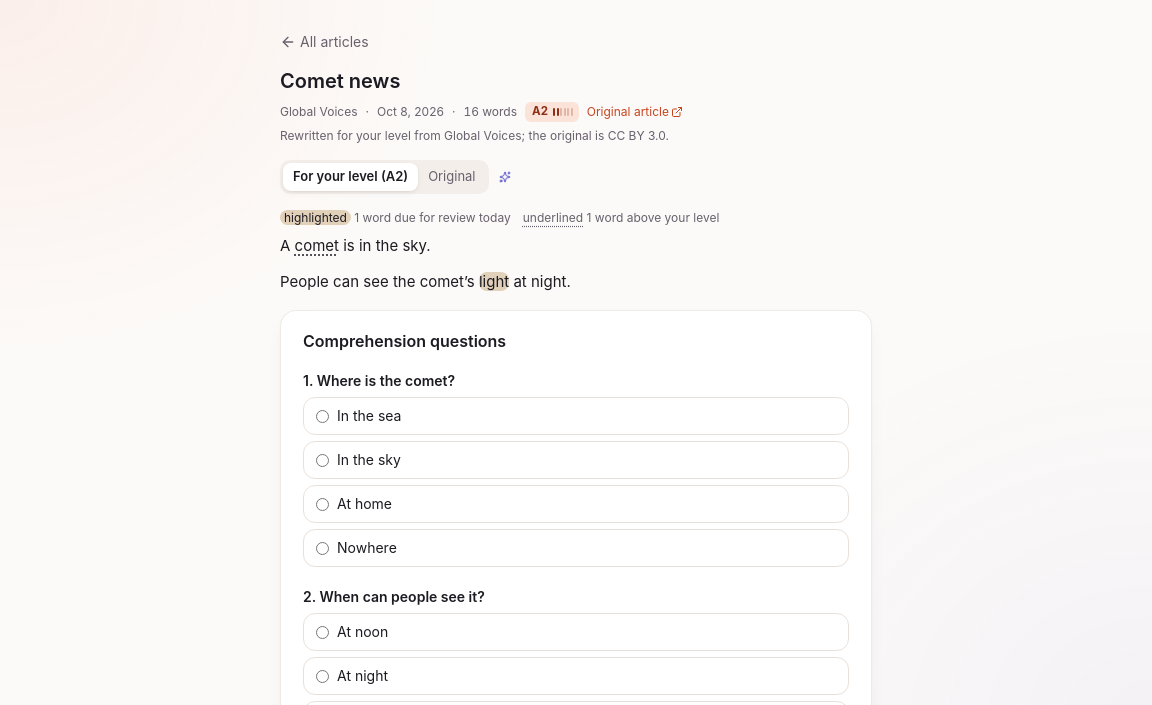
Scenario: ReadingArticle › grades the answers and shows the evidence
Click the radio button labelled "In the sky" at point(322, 461), box [316,454,329,467]
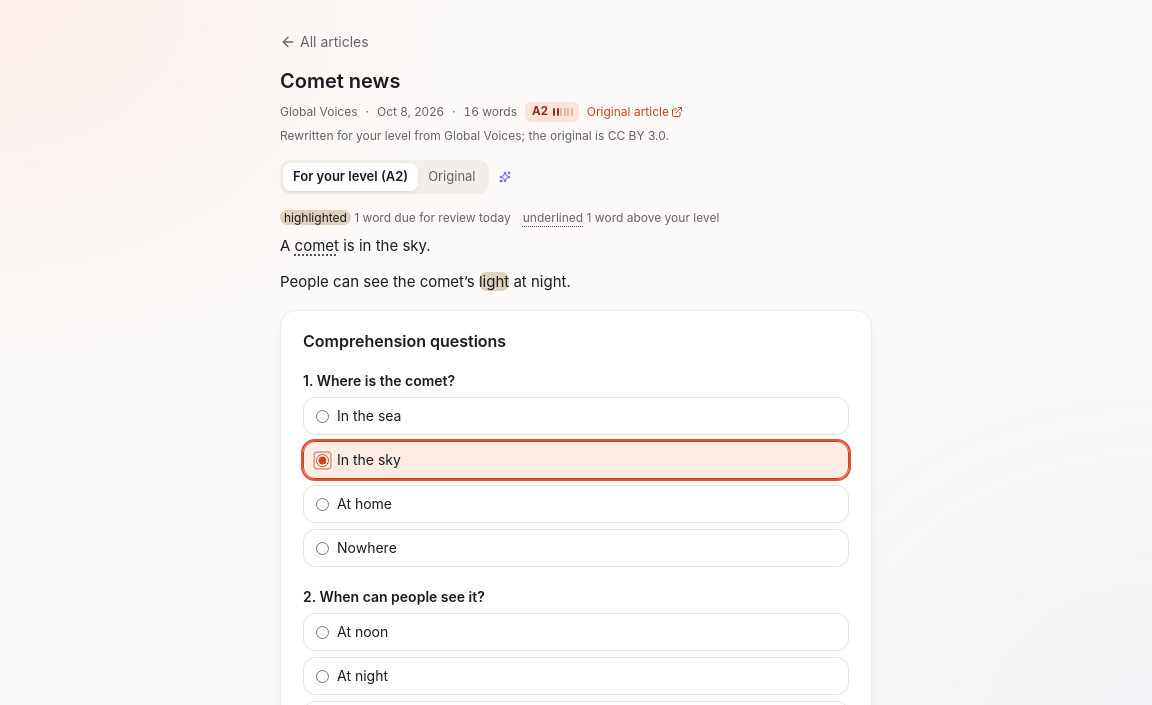
Click the radio button labelled "At noon" at point(322, 633), box [316,626,329,639]
(page scrolled)
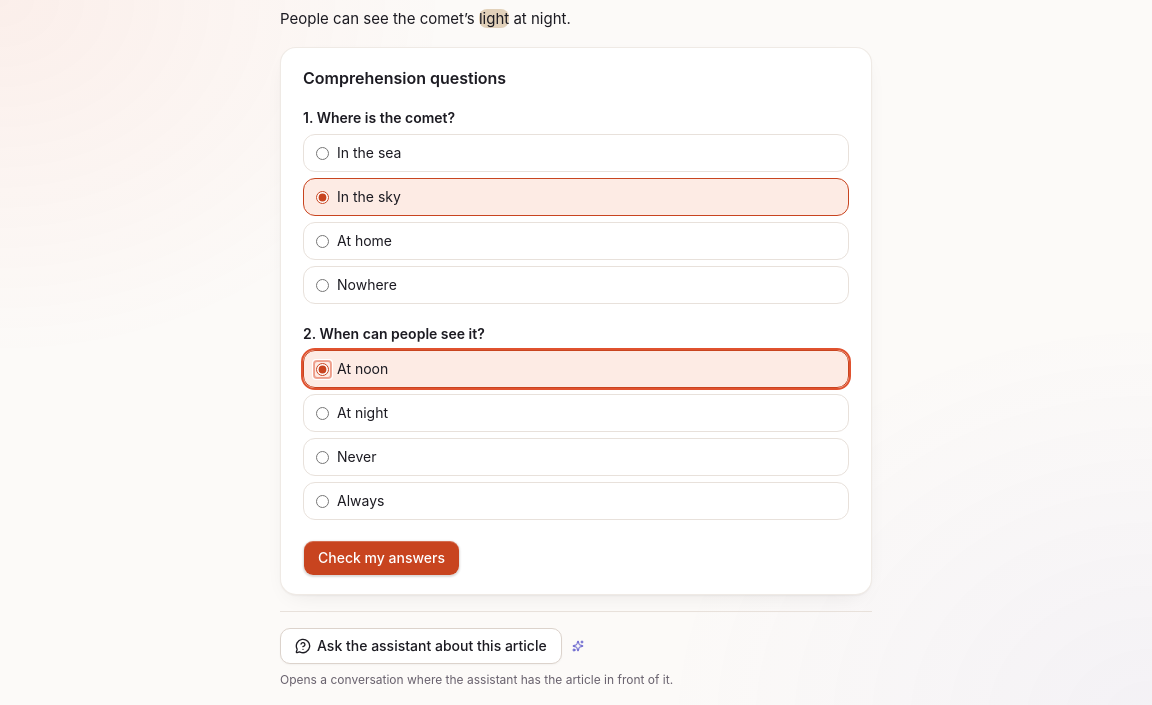
Click the button "Check my answers" at point(382, 558), box [303,540,460,576]
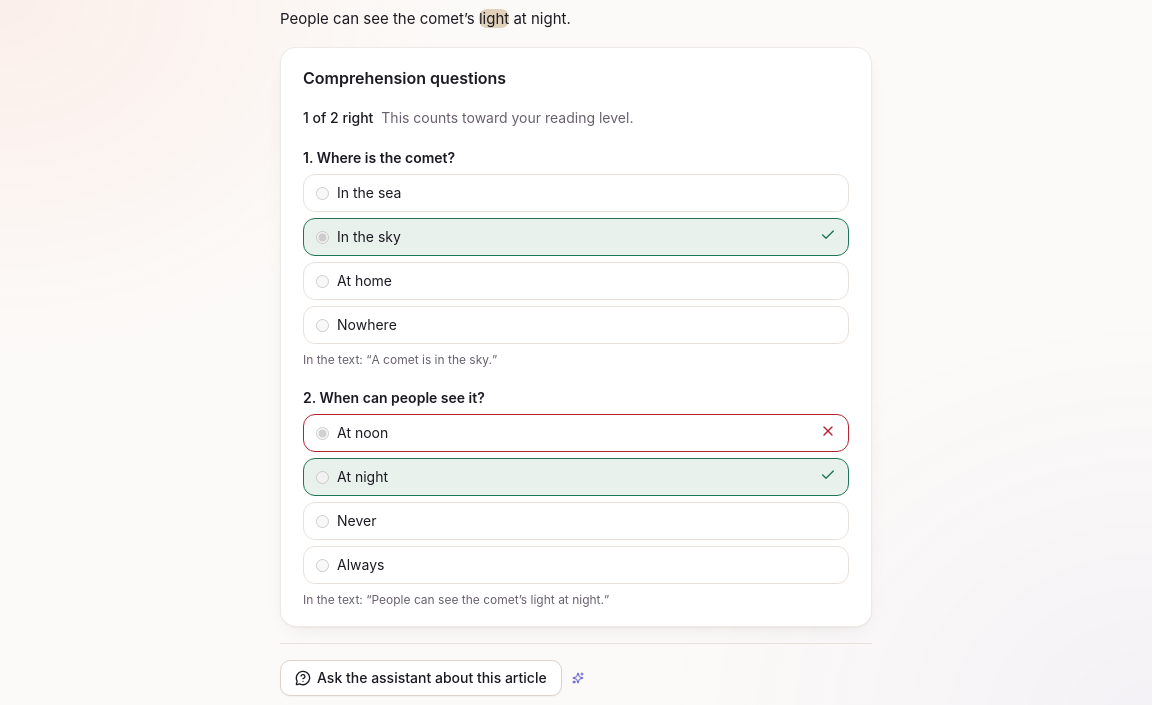
Expected: the element with test id "reading-score" shows "1 of 2 right", [303,109,373,126]
Expected: the text "This counts toward your reading level." is shown, [381,109,633,126]
Expected: the text "In the text: A comet is in the sky." is shown 2 times, [303,352,492,367]; [303,592,604,607]
